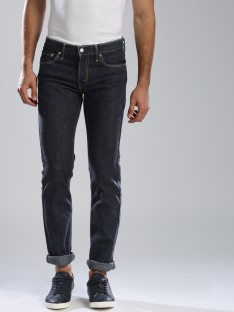Jeans: (36, 28, 135, 271)
